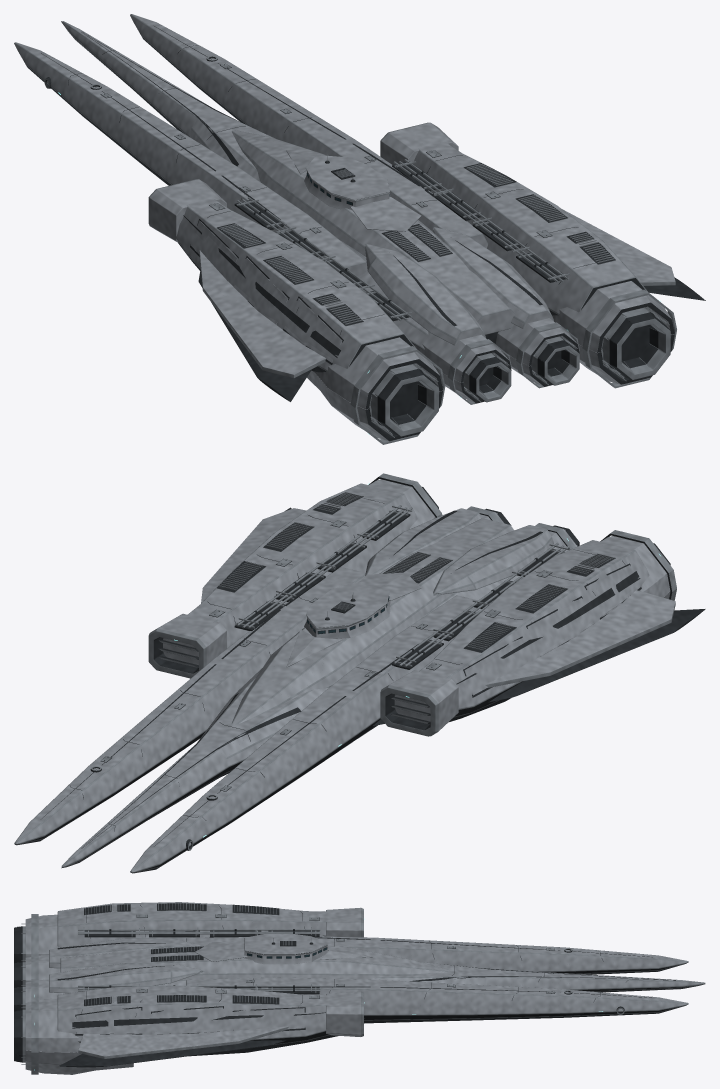
File: sovereign.glb
3 views of the same model, one above another, from view 1: azimuth 30°, elevation 25°; view 2: azimuth 150°, elevation 25°; view 3: azimuth 270°, elevation 25° (orthographic). The views are drawn at different scales.
Parts seen in each view (by area): view 1: Hull_Sovereign; view 2: Hull_Sovereign; view 3: Hull_Sovereign.
Part boxes in pixels (x1,y1,x2,y2): Hull_Sovereign: [14, 14, 705, 444]; Hull_Sovereign: [14, 473, 705, 873]; Hull_Sovereign: [14, 902, 705, 1074].
Bounding box in the file's own units: 123 × 34.05 × 240.
6 materials, 3 textured.
